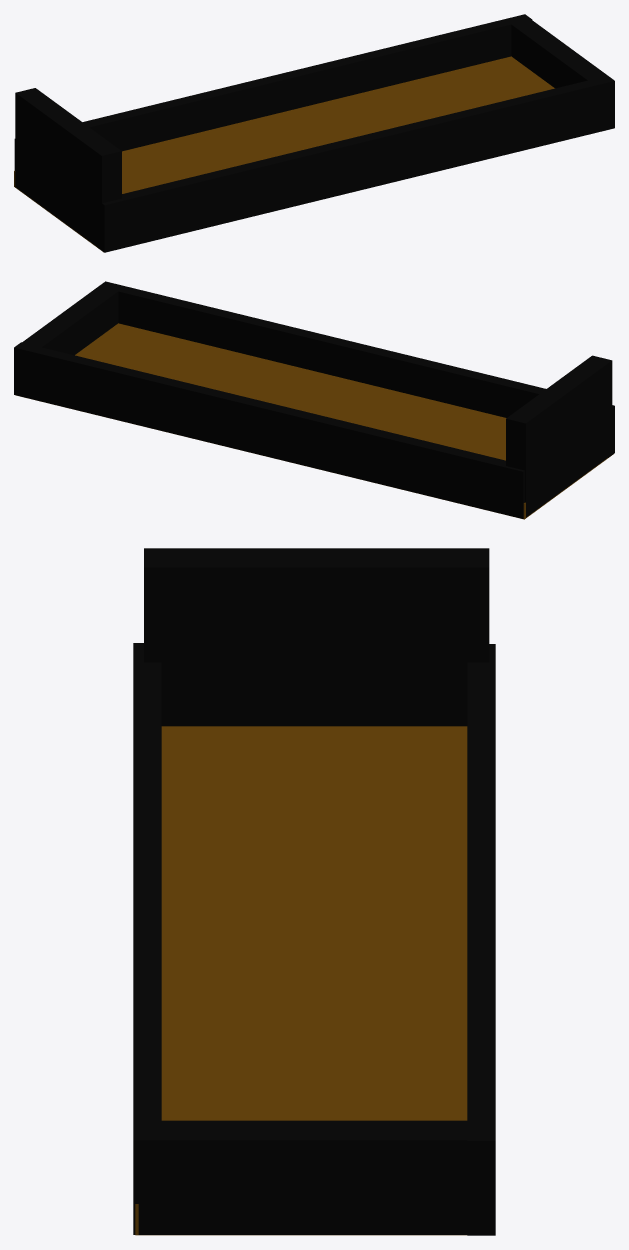
Rendered from trailer.glb.
3 views of the same model, one above another, from view 1: azimuth 30°, elevation 25°; view 2: azimuth 150°, elevation 25°; view 3: azimuth 270°, elevation 25° (orthographic). The views are drawn at different scales.
Visible parts, largest first — view 1: Cube.002, Cube, Cube.001, Cube.003, Cube.004; view 2: Cube.001, Cube, Cube.002, Cube.003, Cube.004; view 3: Cube, Cube.003, Cube.004, Cube.001, Cube.002.
Boxes of the visible parts, left/top/right/bottom form: Cube.002: left=98, top=75, right=614, bottom=252; Cube: left=14, top=56, right=554, bottom=252; Cube.001: left=14, top=14, right=532, bottom=170; Cube.003: left=15, top=88, right=121, bottom=249; Cube.004: left=511, top=19, right=610, bottom=88; Cube.001: left=14, top=342, right=524, bottom=518; Cube: left=16, top=323, right=613, bottom=519; Cube.002: left=99, top=281, right=614, bottom=457; Cube.003: left=506, top=355, right=612, bottom=517; Cube.004: left=22, top=285, right=118, bottom=355; Cube: left=135, top=726, right=467, bottom=1235; Cube.003: left=144, top=548, right=489, bottom=726; Cube.004: left=138, top=1120, right=467, bottom=1234; Cube.001: left=467, top=644, right=495, bottom=1235; Cube.002: left=133, top=643, right=161, bottom=1234.
Size of the model in its own units: 8.62 by 1.53 by 2.65.
